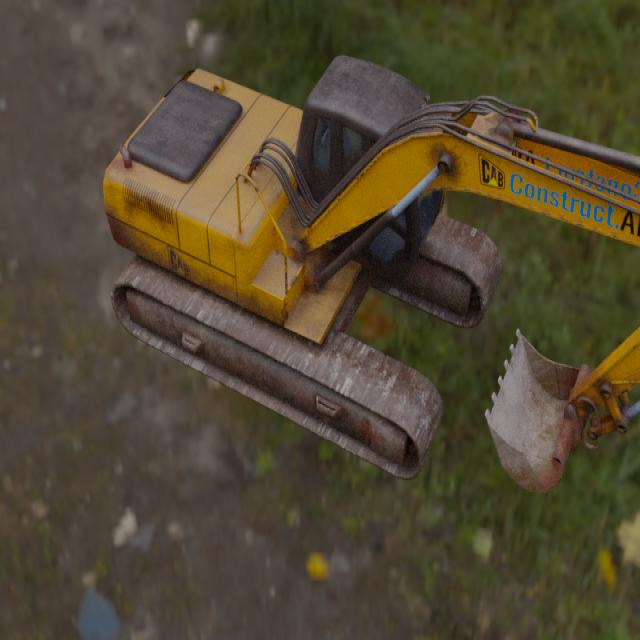excavator: (102, 54, 640, 494)
